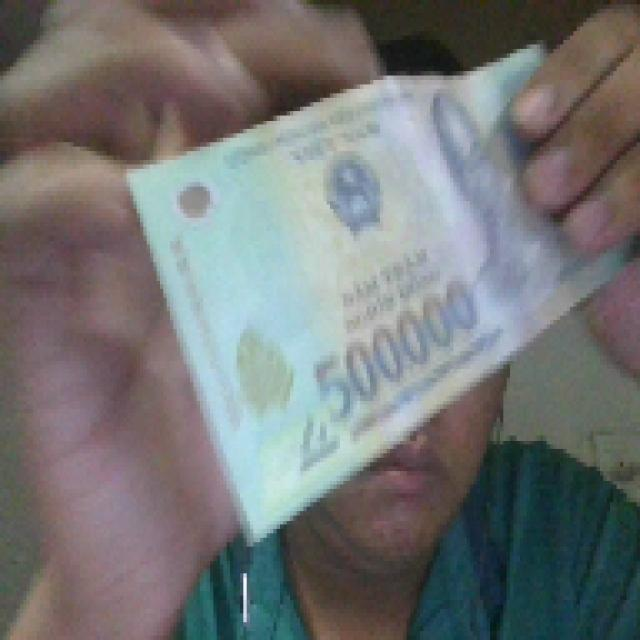500 000 VND: (120, 36, 637, 551)
